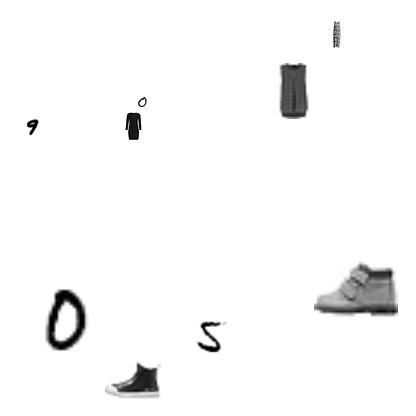0: (22, 275, 106, 359), (135, 95, 149, 109)
5: (189, 316, 231, 358)
9: (21, 114, 43, 136)
Ankle_boot: (314, 247, 398, 331), (105, 352, 161, 408)
Dress: (119, 112, 147, 140), (323, 20, 351, 48)
Shirt: (266, 63, 322, 119)
